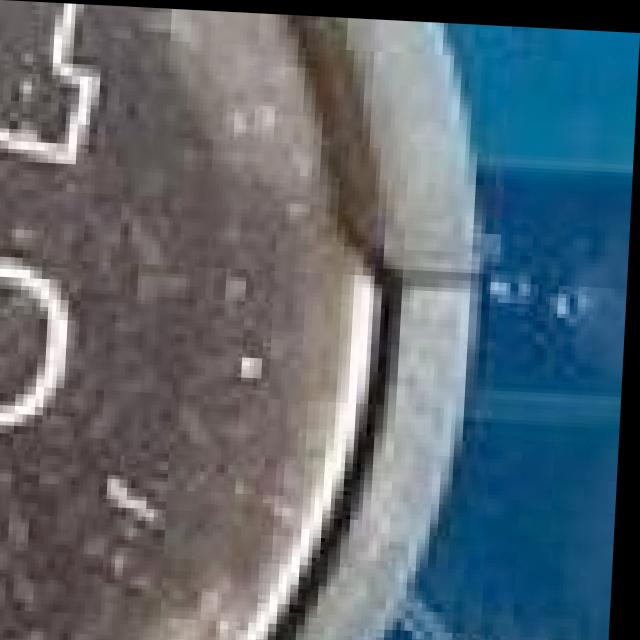clock: (0, 0, 528, 640)
